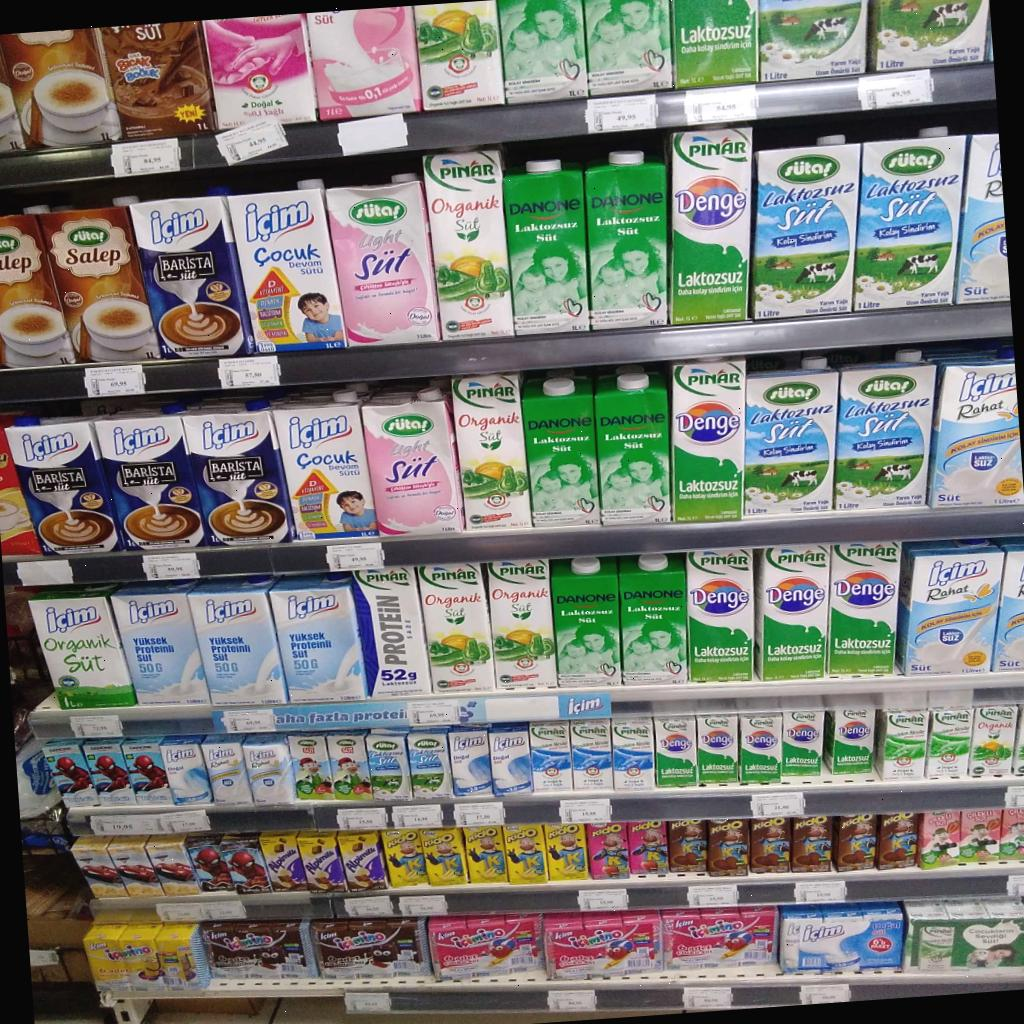price_tag: (216, 117, 288, 165), (858, 69, 933, 109), (337, 114, 408, 155), (586, 94, 658, 134), (684, 85, 757, 124), (111, 138, 180, 176), (84, 364, 146, 397), (219, 355, 280, 388), (326, 541, 384, 572), (142, 552, 201, 580), (17, 559, 73, 586), (90, 815, 163, 835), (405, 700, 461, 726), (752, 792, 805, 819), (454, 801, 505, 828), (559, 799, 611, 824), (223, 708, 276, 732), (69, 715, 124, 738), (392, 805, 443, 829), (159, 810, 210, 834), (794, 880, 846, 903), (683, 986, 732, 1010), (337, 807, 388, 830), (688, 884, 739, 907), (578, 889, 628, 911), (344, 896, 394, 918), (547, 990, 597, 1012), (344, 991, 391, 1014), (399, 895, 448, 916), (156, 902, 204, 923), (800, 984, 850, 1004), (203, 899, 246, 921), (1012, 706, 1024, 775), (29, 949, 59, 967), (1005, 785, 1023, 807), (1007, 874, 1023, 896)
product: (853, 131, 967, 311), (130, 198, 253, 358), (752, 140, 861, 318), (227, 189, 345, 351), (38, 207, 159, 362), (327, 181, 440, 345), (423, 150, 514, 340), (833, 350, 937, 510), (183, 401, 295, 545), (669, 128, 751, 324), (275, 391, 379, 541), (96, 413, 209, 550), (8, 418, 121, 554), (743, 360, 839, 517), (362, 389, 465, 535), (503, 159, 588, 333), (585, 151, 668, 328), (898, 540, 1004, 676), (0, 28, 120, 146), (930, 357, 1024, 507), (100, 21, 215, 140), (308, 6, 422, 120), (203, 13, 316, 128), (30, 587, 136, 709), (112, 580, 210, 706), (190, 579, 288, 705), (273, 574, 369, 702), (672, 360, 745, 523), (0, 214, 77, 368), (522, 377, 600, 526), (452, 375, 529, 525), (595, 372, 670, 524), (417, 563, 496, 694), (755, 544, 830, 681), (353, 567, 432, 697), (826, 542, 901, 677), (416, 0, 502, 110), (486, 559, 557, 689), (903, 897, 1024, 973), (956, 134, 1010, 304), (551, 557, 622, 686), (686, 549, 754, 683), (618, 553, 688, 683), (500, 0, 587, 103), (758, 0, 867, 82), (781, 903, 903, 973), (869, 0, 989, 71), (585, 0, 673, 95), (544, 911, 662, 978), (428, 914, 543, 982), (672, 0, 757, 88), (661, 906, 777, 970), (201, 920, 318, 980), (312, 919, 429, 979), (993, 539, 1024, 672), (43, 740, 99, 806), (875, 709, 927, 780), (244, 735, 295, 805), (157, 924, 210, 990), (822, 708, 874, 775), (337, 830, 395, 890), (969, 705, 1018, 776), (108, 837, 163, 899), (161, 736, 211, 804), (202, 735, 251, 804), (83, 740, 135, 805), (925, 707, 973, 777), (72, 837, 127, 898), (407, 729, 453, 801), (123, 738, 173, 804), (653, 715, 698, 788), (326, 732, 373, 801), (118, 924, 167, 990), (366, 732, 412, 801), (288, 733, 334, 801), (738, 713, 782, 784), (147, 835, 199, 895), (489, 723, 532, 795), (612, 718, 655, 790), (84, 924, 130, 991), (529, 721, 572, 791), (570, 719, 613, 789), (298, 830, 346, 892), (696, 714, 738, 783), (781, 709, 823, 778), (222, 835, 271, 894), (449, 728, 491, 796), (382, 829, 429, 887), (260, 832, 306, 891), (503, 825, 548, 884), (422, 828, 467, 886), (187, 837, 234, 892), (833, 814, 877, 872), (463, 826, 507, 883), (917, 811, 960, 869), (587, 823, 630, 880), (546, 824, 589, 880), (0, 55, 25, 151), (707, 820, 748, 877), (791, 816, 831, 873), (959, 809, 1001, 863), (749, 817, 790, 872), (876, 813, 916, 869), (667, 819, 707, 872), (628, 821, 667, 873), (999, 809, 1024, 860)
